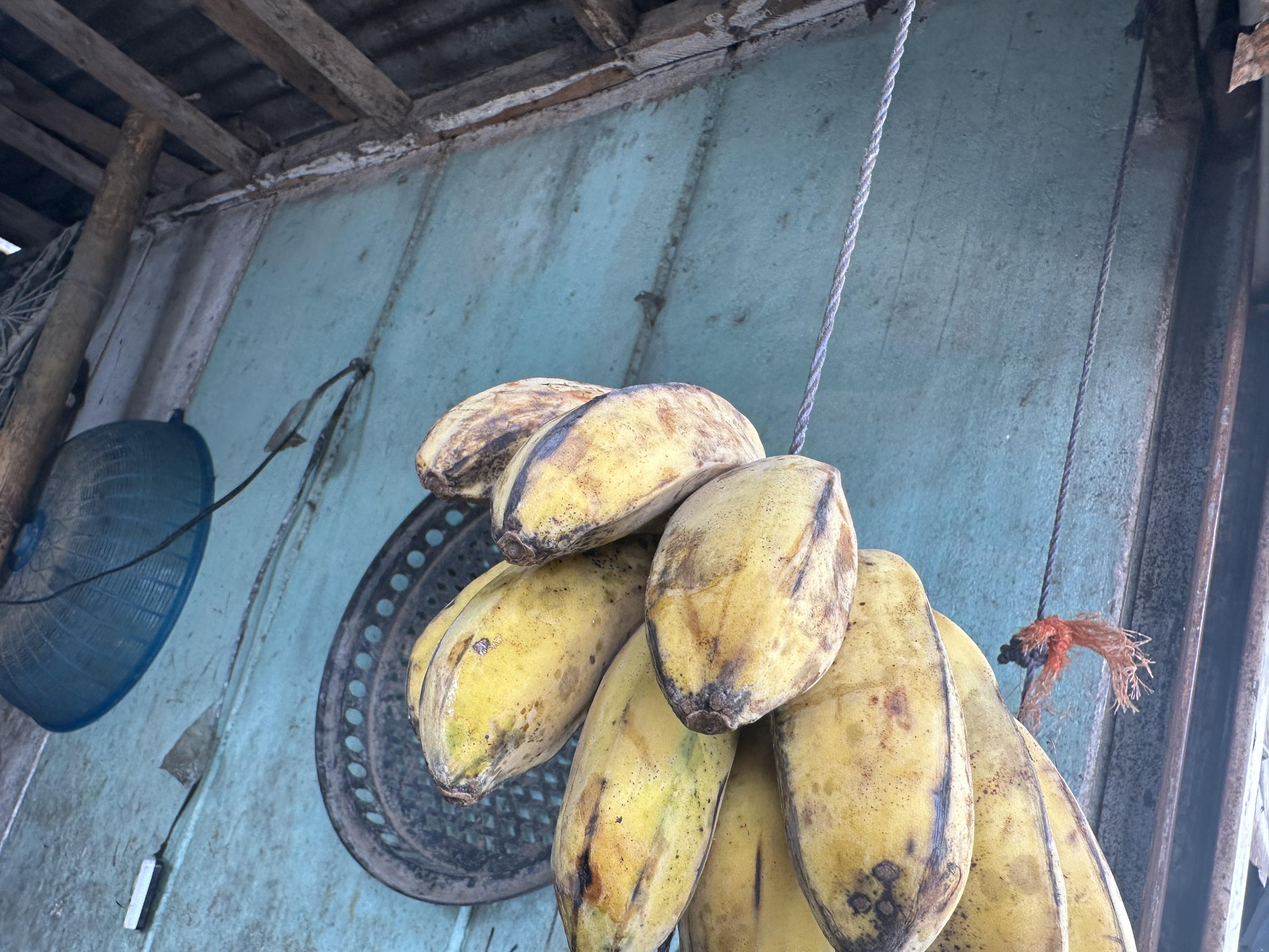ripe: (408, 377, 1138, 952)
